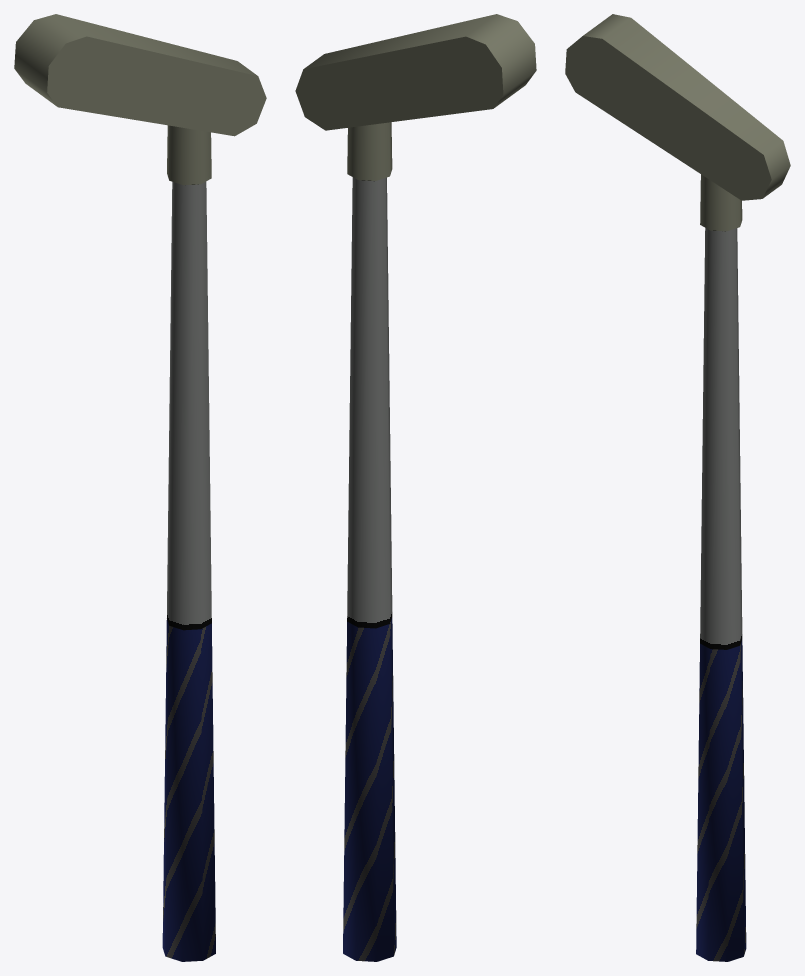
Rendered from glf_culb_L__glf_club_PT_L.glb.
3 views of the same model, side by side, from view 1: azimuth 30°, elevation 25°; view 2: azimuth 150°, elevation 25°; view 3: azimuth 330°, elevation 25° (orthographic). The views are drawn at different scales.
Visible parts, largest first — view 1: polygon0, polygon1; view 2: polygon0, polygon1; view 3: polygon0, polygon1.
Part boxes in pixels (bbox=[...]): polygon0: bbox=[14, 14, 266, 630]; polygon1: bbox=[162, 619, 215, 961]; polygon0: bbox=[295, 14, 536, 628]; polygon1: bbox=[343, 617, 396, 961]; polygon0: bbox=[565, 14, 790, 649]; polygon1: bbox=[696, 639, 746, 961].
Size of the model in its own units: 1.67 by 6.97 by 0.459.
Materials: 2 (2 with a texture image).
